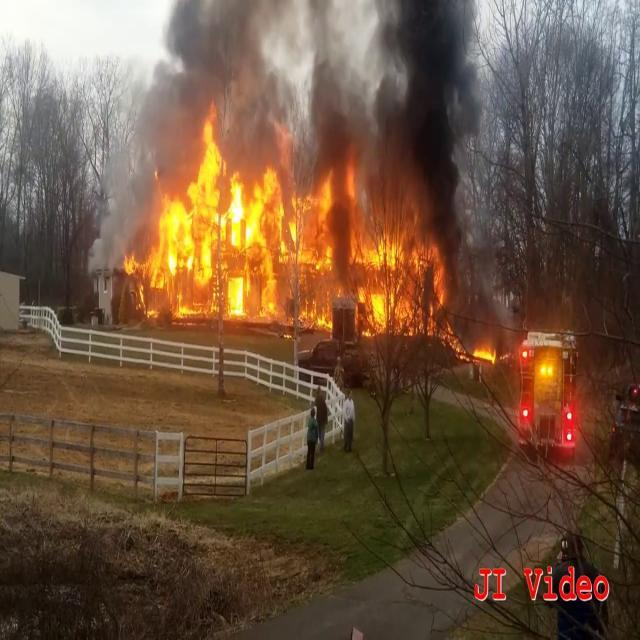Fire: (123, 120, 445, 334), (469, 338, 496, 368)
Smoke: (300, 0, 492, 232), (105, 0, 314, 179)
